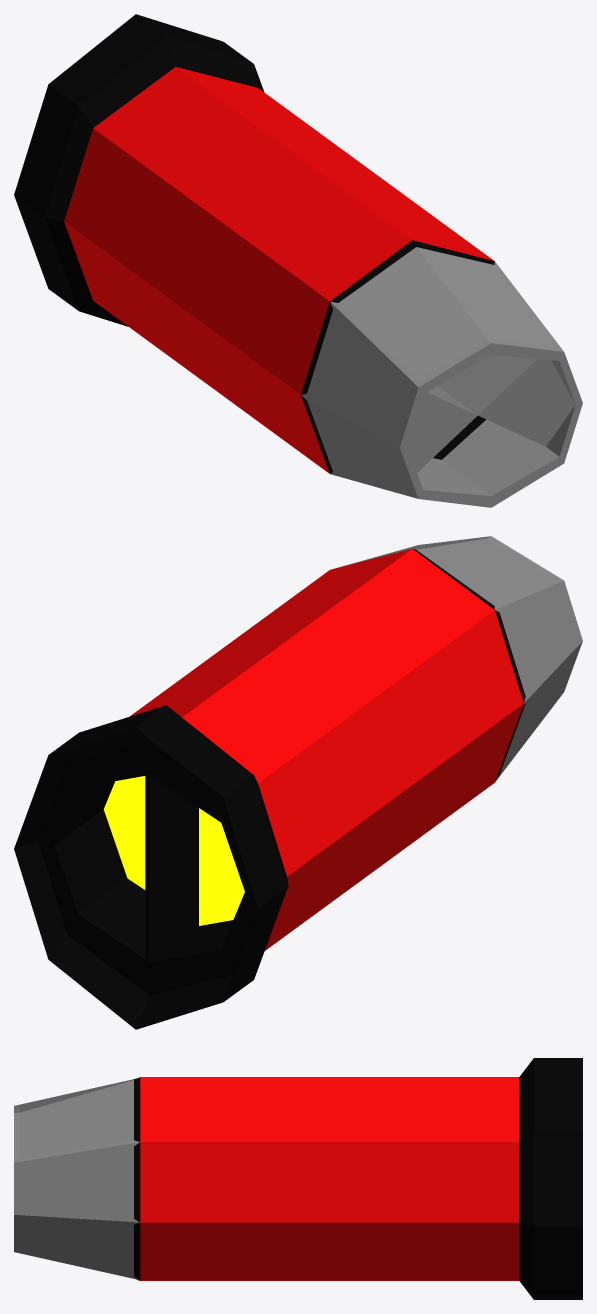
Rendered from Engine 1.fbx.
3 renders of one model, top to bottom at view 1: azimuth 30°, elevation 25°; view 2: azimuth 150°, elevation 25°; view 3: azimuth 270°, elevation 25°, orthographic. The views are drawn at different scales.
Parts seen in each view (by area): view 1: engine; view 2: engine; view 3: engine.
Part boxes in pixels (bbox=[...]): engine: bbox=[14, 14, 582, 507]; engine: bbox=[14, 536, 582, 1029]; engine: bbox=[14, 1058, 582, 1299].
Size of the model in its own units: 5.44 by 6.45 by 13.74.
